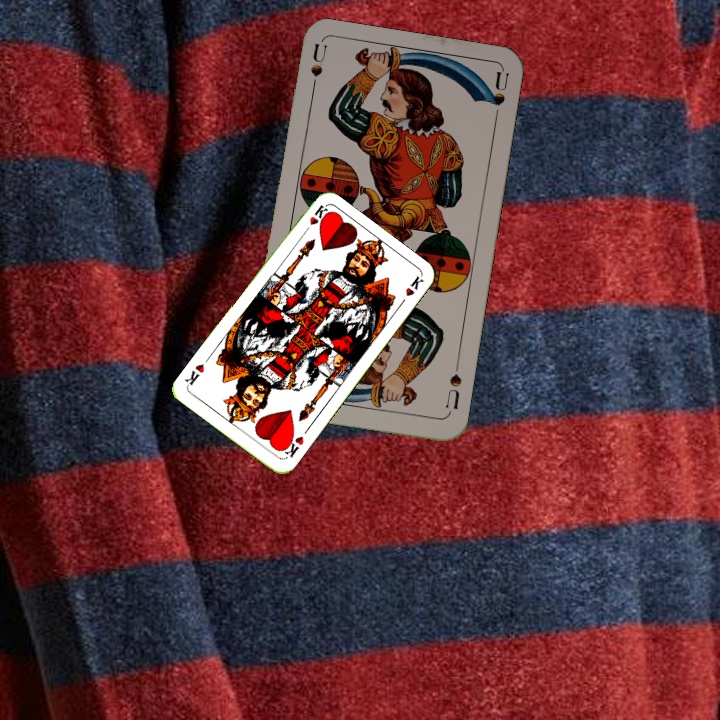HK: (299, 201, 330, 238), (278, 431, 306, 461)
SU: (306, 41, 329, 101), (441, 358, 464, 417)
